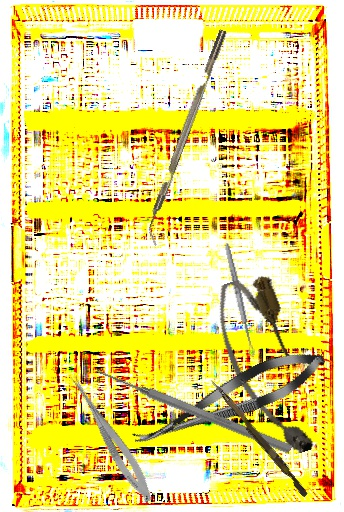Cannula: (206, 269, 326, 466)
Chopper: (139, 29, 237, 246)
Micro Scissor: (126, 338, 332, 461), (61, 370, 159, 506)
Pusher: (93, 364, 294, 456), (205, 378, 312, 498)
Surgical Spoon: (223, 242, 256, 358)
